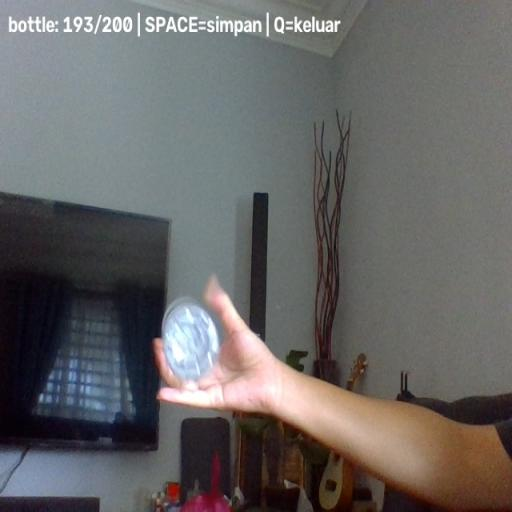Bottle: (160, 294, 225, 383)
